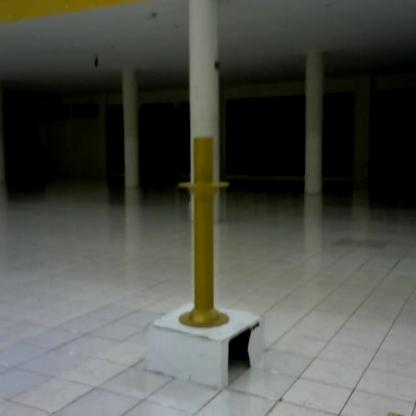pole: (175, 132, 237, 330)
